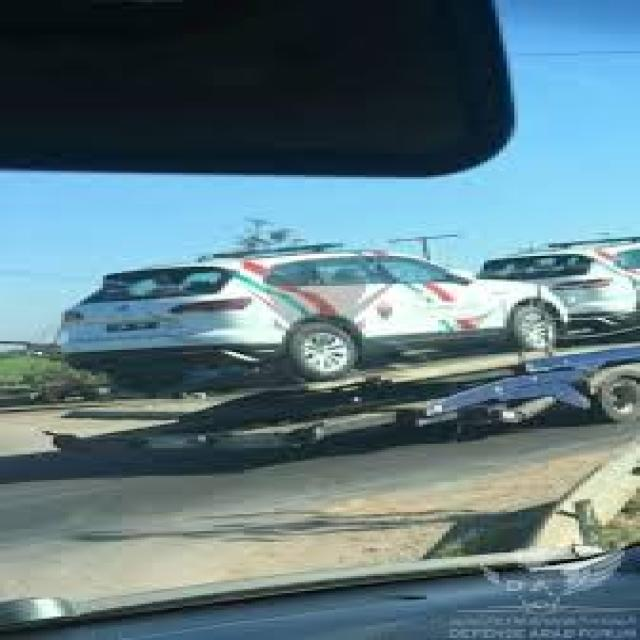police: (45, 237, 552, 393)
